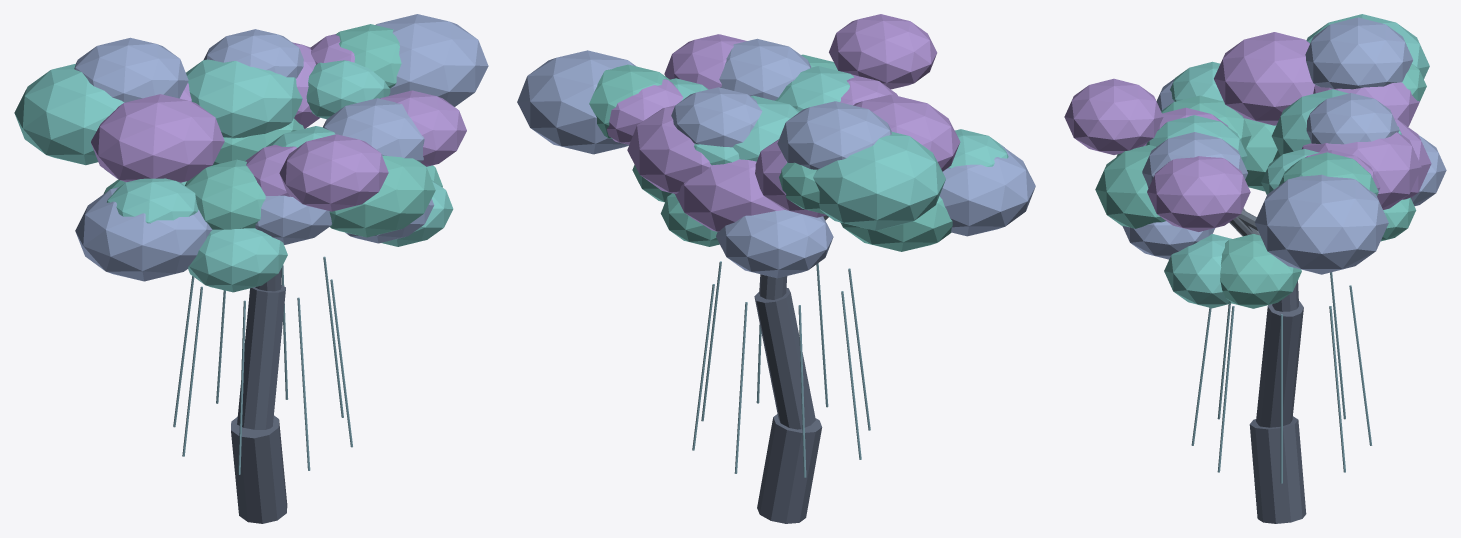
File: hexcore_living_tree_12.glb
3 views of the same model, side by side, from view 1: azimuth 30°, elevation 25°; view 2: azimuth 150°, elevation 25°; view 3: azimuth 270°, elevation 25° (orthographic). The views are drawn at different scales.
Visible parts, largest first — view 1: world; view 2: world; view 3: world.
Part boxes in pixels (x1=…): world: x1=14, y1=14, x2=488, y2=523; world: x1=517, y1=14, x2=1035, y2=523; world: x1=1064, y1=14, x2=1446, y2=523.
Bounding box in the file's own units: 25.8 × 25.28 × 19.51.
